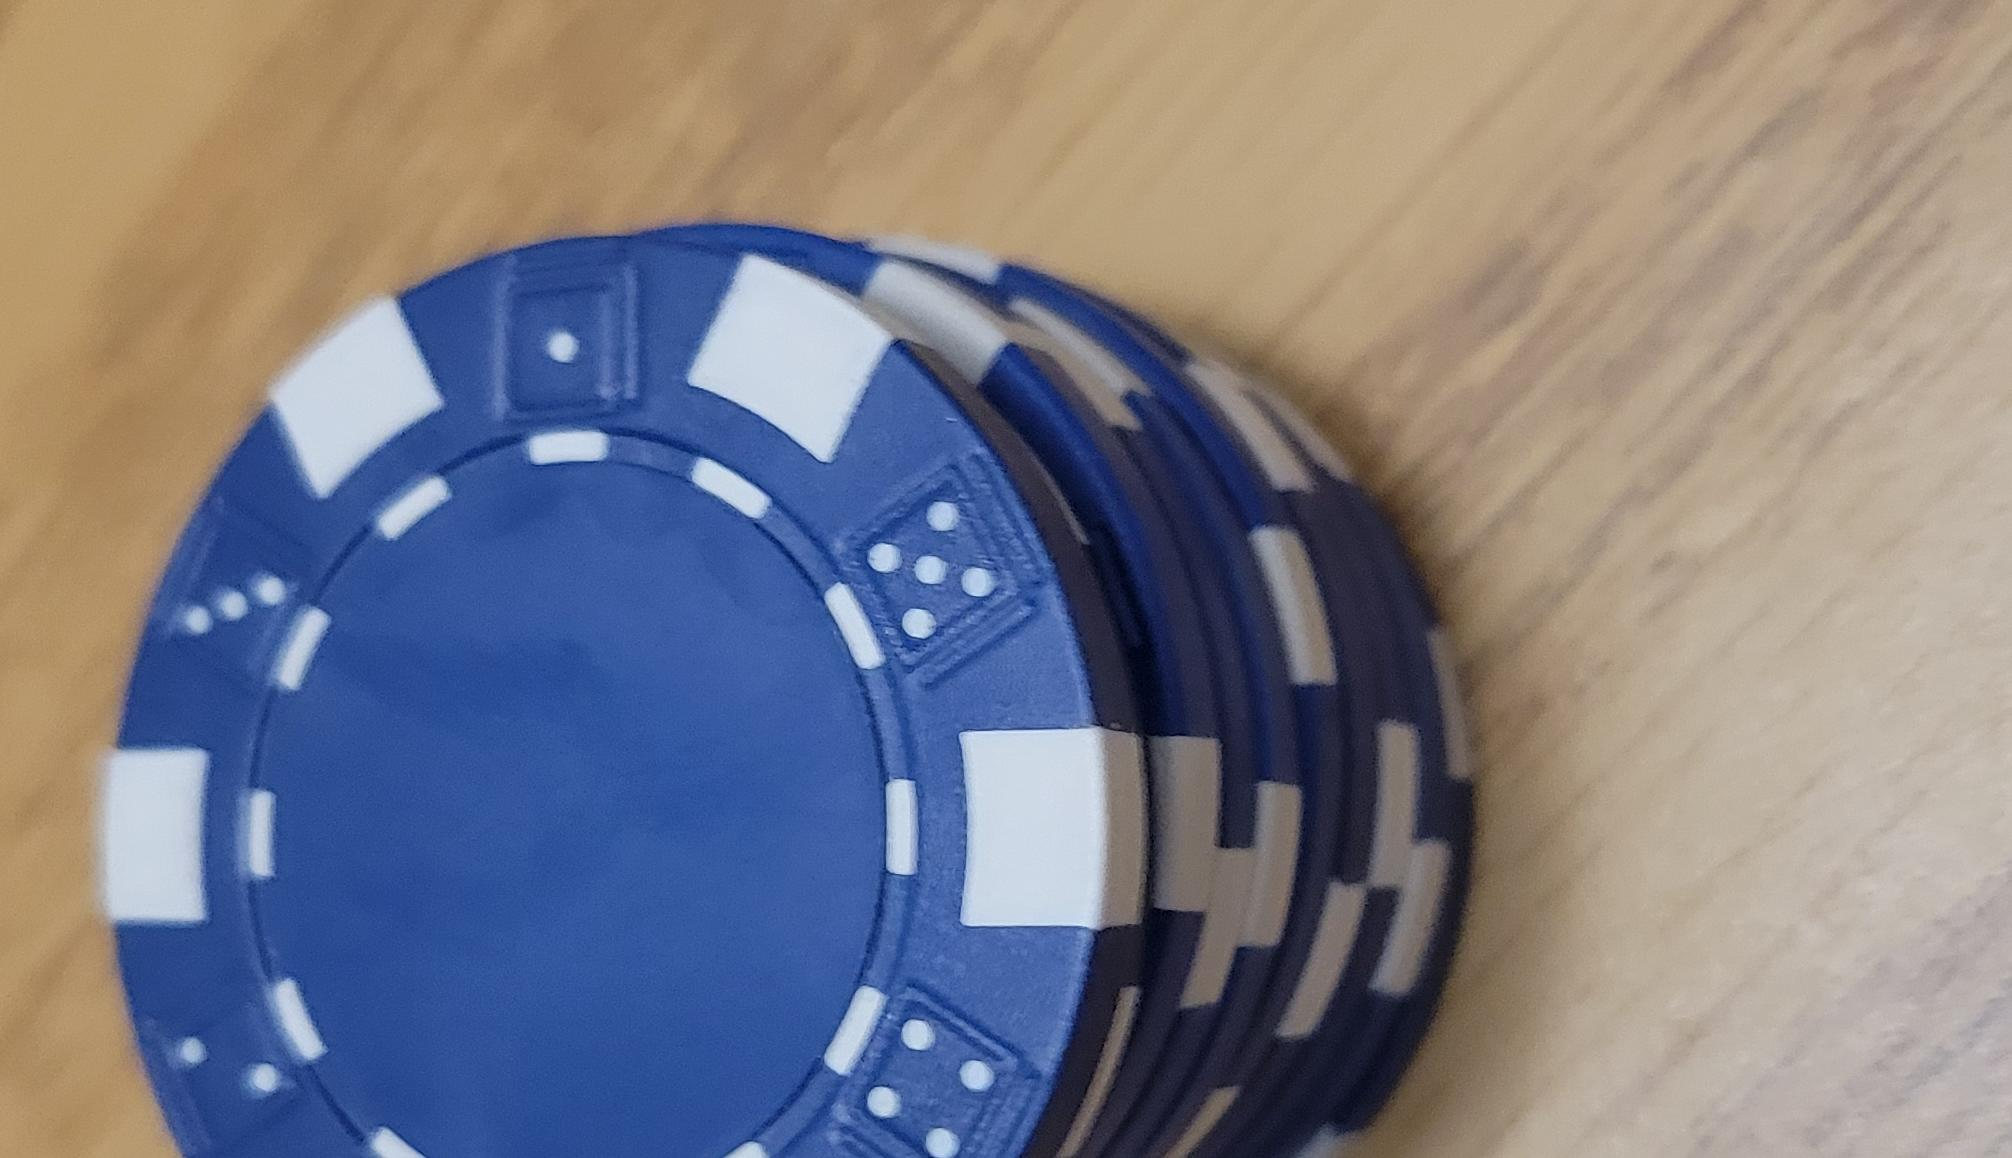Chip: (1, 242, 1273, 1158)
